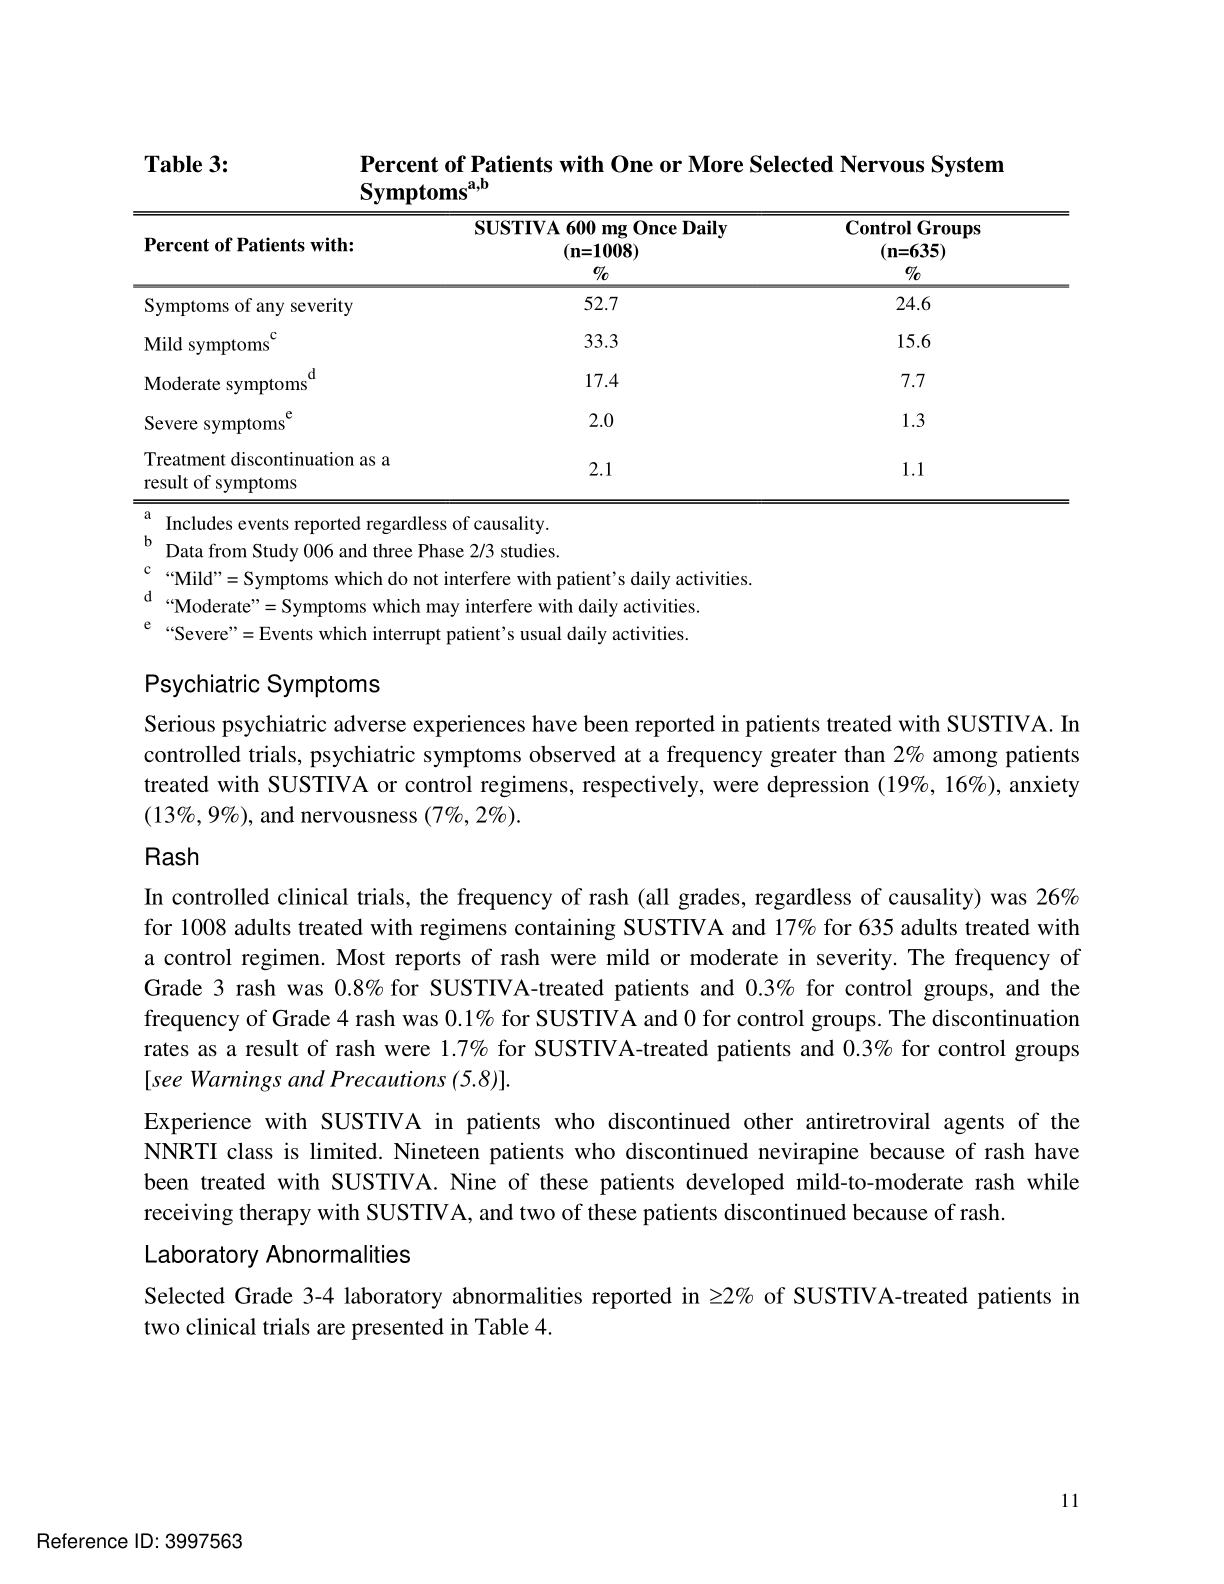partial_lined: (131, 210, 1070, 505)
